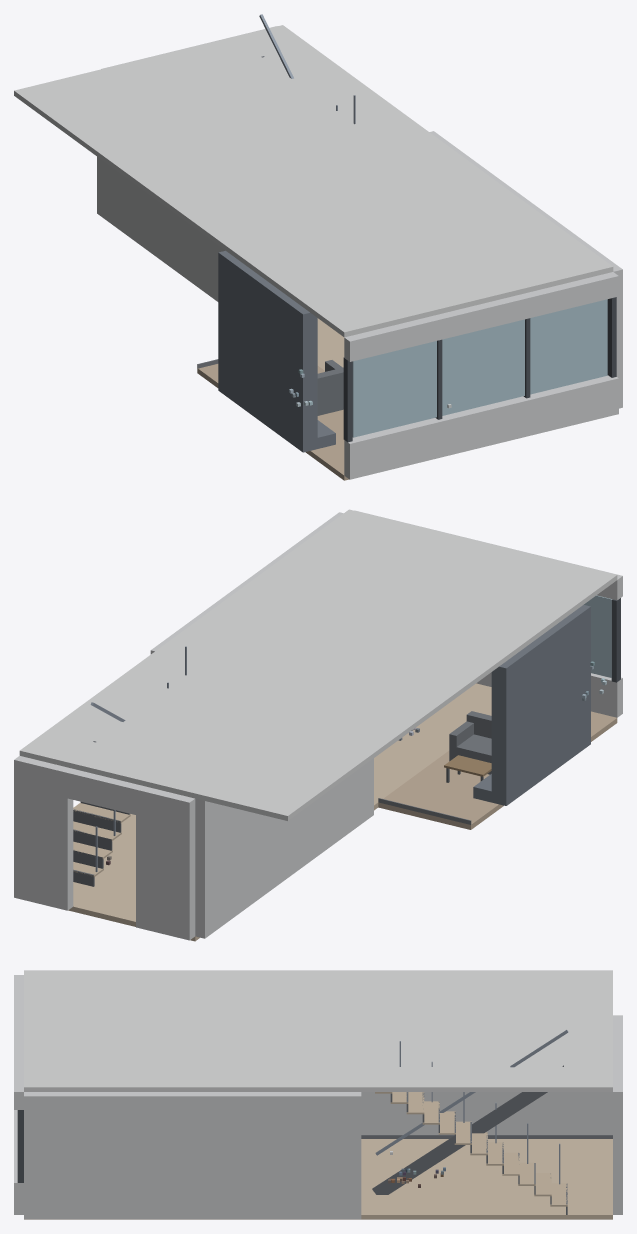
Rendered from building.glb.
The picture shows the model from 3 angles, top to bottom: view 1: azimuth 30°, elevation 25°; view 2: azimuth 150°, elevation 25°; view 3: azimuth 270°, elevation 25°; orthographic projection. The views are drawn at different scales.
Parts seen in each view (by area): view 1: geometry_0; view 2: geometry_0; view 3: geometry_0.
Part boxes in pixels (x1=…): geometry_0: x1=14, y1=14, x2=622, y2=480; geometry_0: x1=14, y1=509, x2=622, y2=941; geometry_0: x1=14, y1=970, x2=622, y2=1219.
Bounding box in the file's own units: 6.04 × 3.71 × 12.1.
